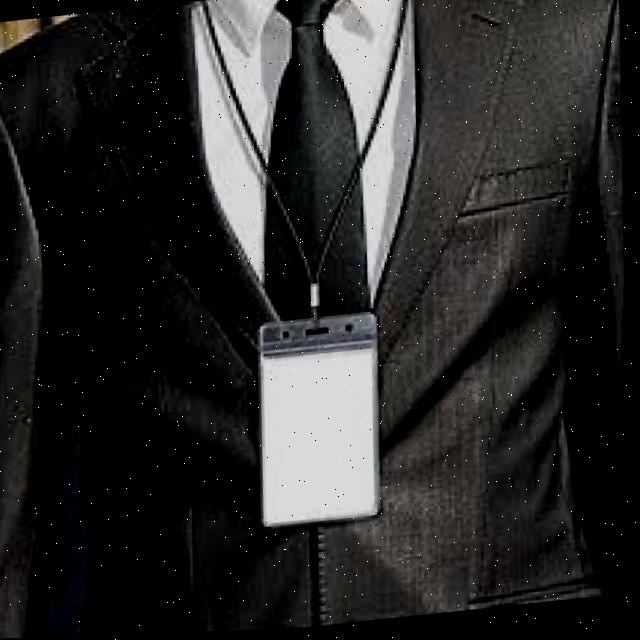id_card: (165, 0, 458, 554)
